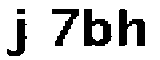7: (47, 8, 78, 49)
b: (81, 8, 112, 53)
h: (116, 8, 147, 49)
j: (4, 3, 29, 59)
